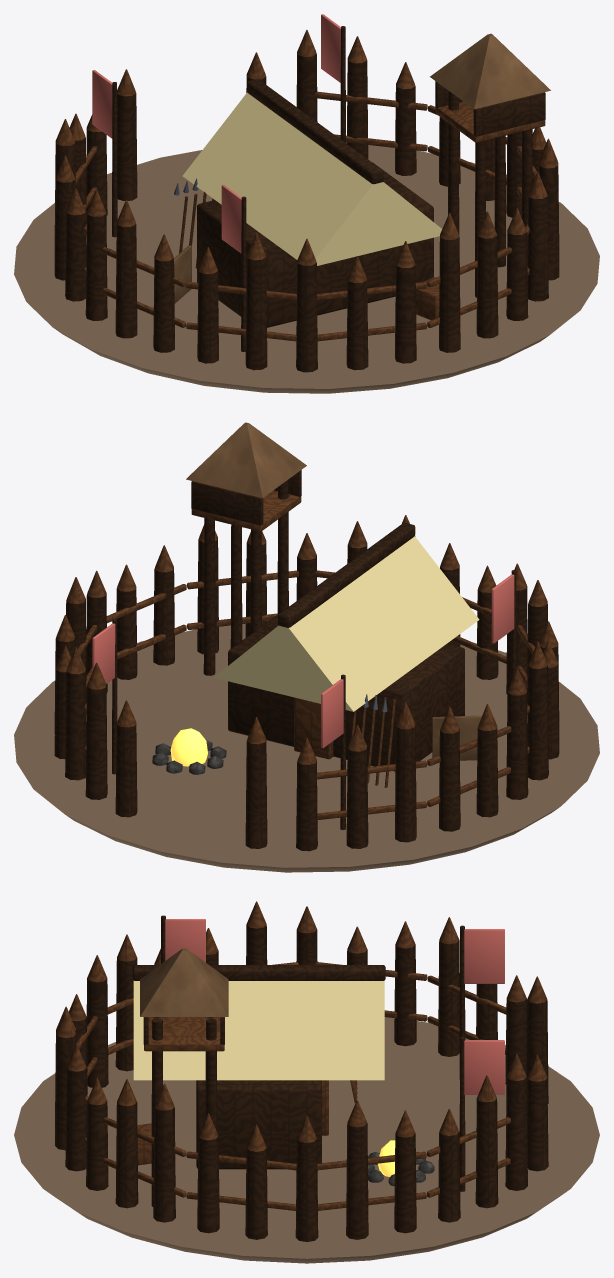
Rendered from building_lair.glb.
3 renders of one model, top to bottom at view 1: azimuth 30°, elevation 25°; view 2: azimuth 150°, elevation 25°; view 3: azimuth 270°, elevation 25°, orthographic.
Parts seen in each view (by area): view 1: building_lair; view 2: building_lair; view 3: building_lair.
Boxes of the visible parts, x1,y1,x2,y2 form: building_lair: (14, 14, 599, 393); building_lair: (14, 422, 599, 872); building_lair: (14, 901, 599, 1263).
Size of the model in its own units: 9.8 by 4.8 by 9.8.
Materials: 9 (5 with a texture image).
